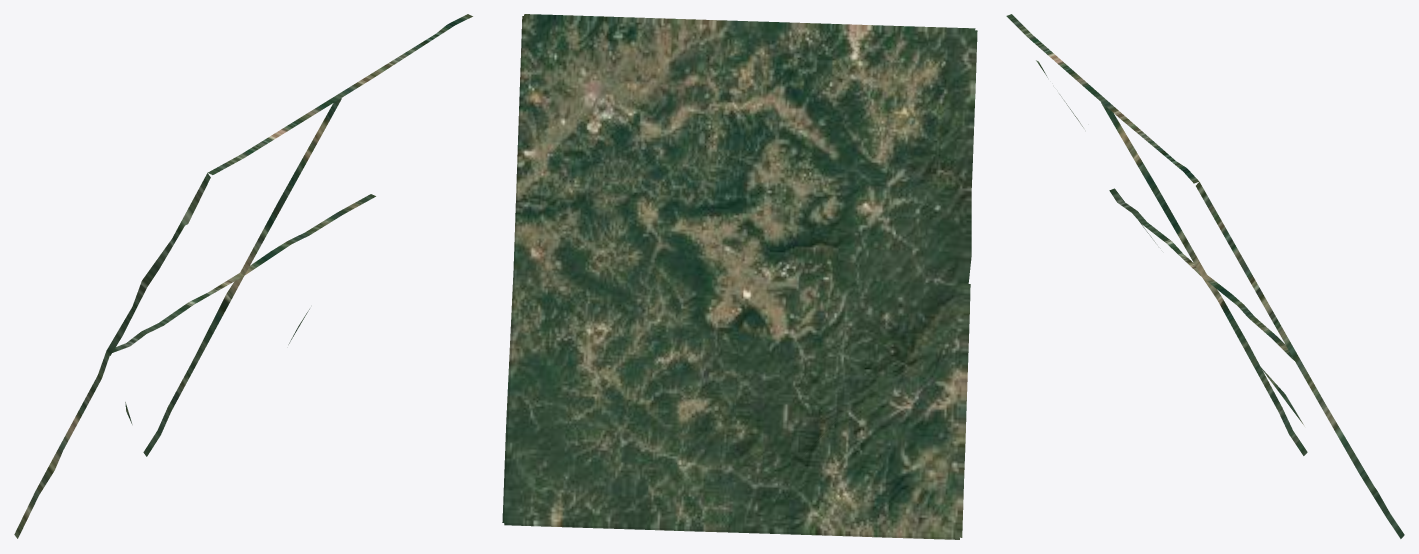
The picture shows the model from 3 angles, left to right: view 1: azimuth 30°, elevation 25°; view 2: azimuth 150°, elevation 25°; view 3: azimuth 270°, elevation 25°; orthographic projection. The views are drawn at different scales.
Size of the model in its own units: 79204 by 70539 by 63588.
1 material, 1 textured.
